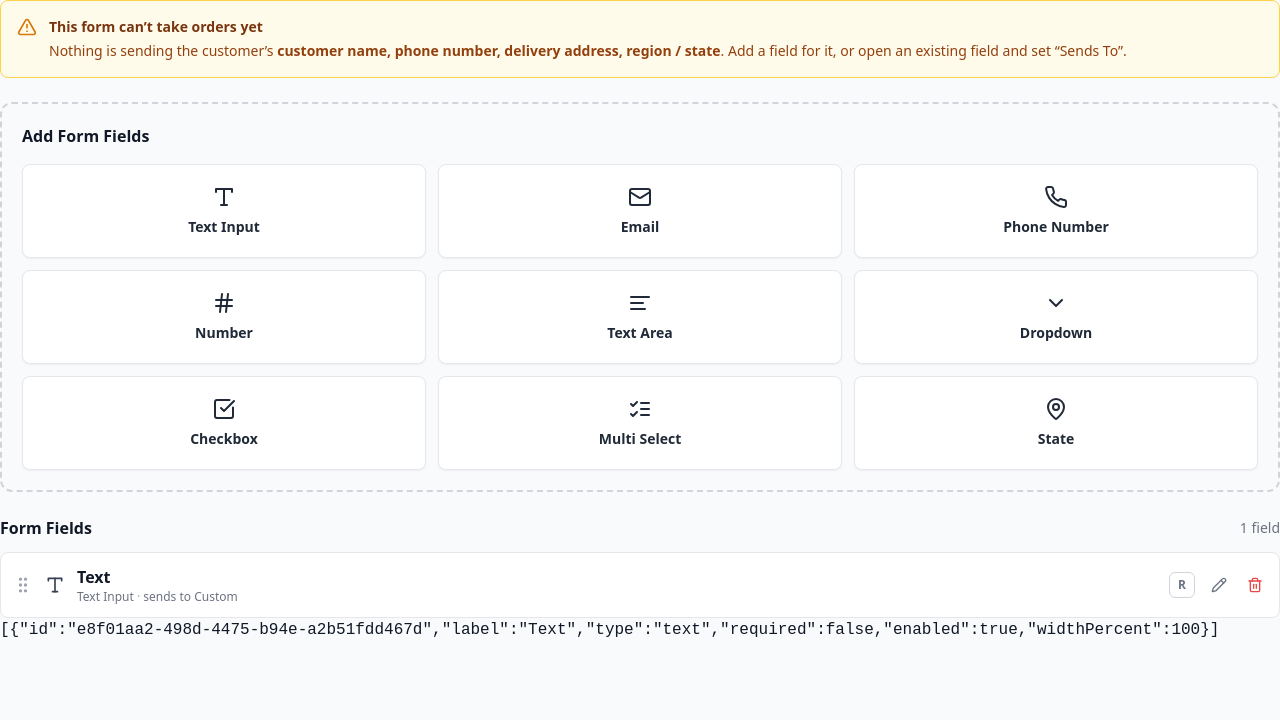
it: FieldsTab › edits a field via the modal — label and width persist
Click the button titled "Edit field" at (1219,585), box x1=1207 y1=573 x2=1231 y2=597
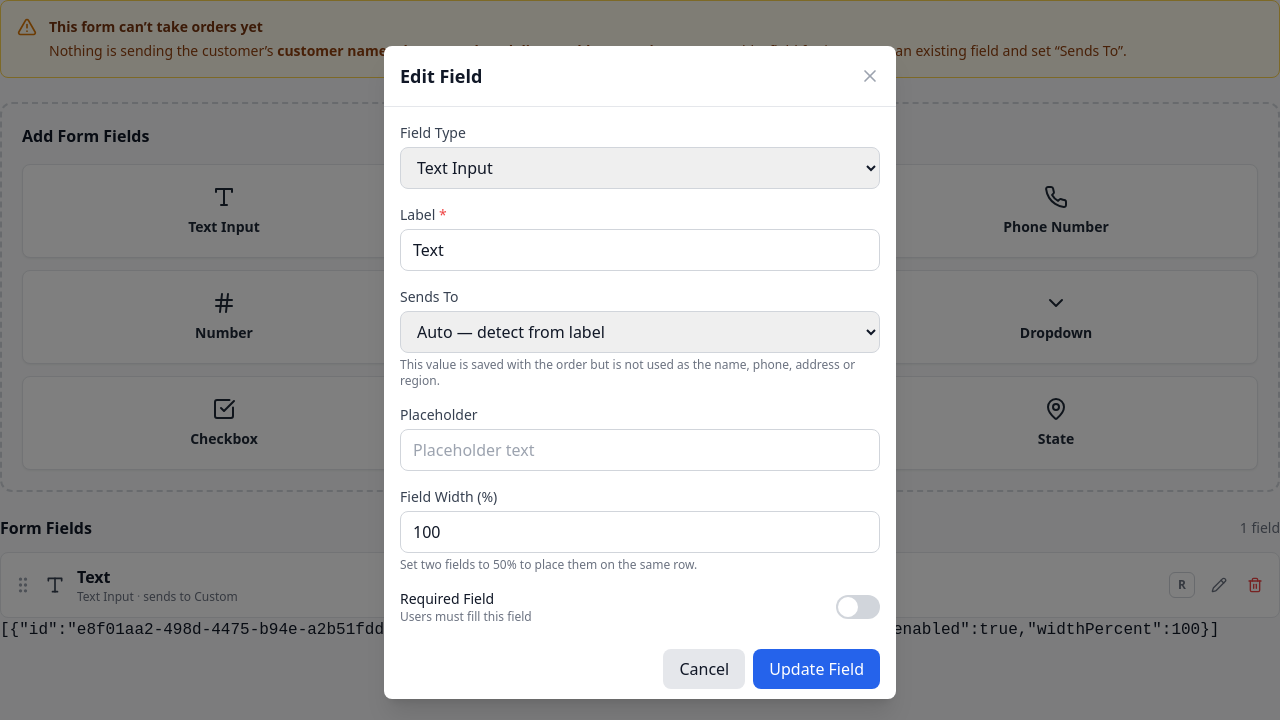
Replace the text in the field with placeholder "e.g., Full Name" with "Full Name" at (640,250), box x1=400 y1=228 x2=880 y2=270
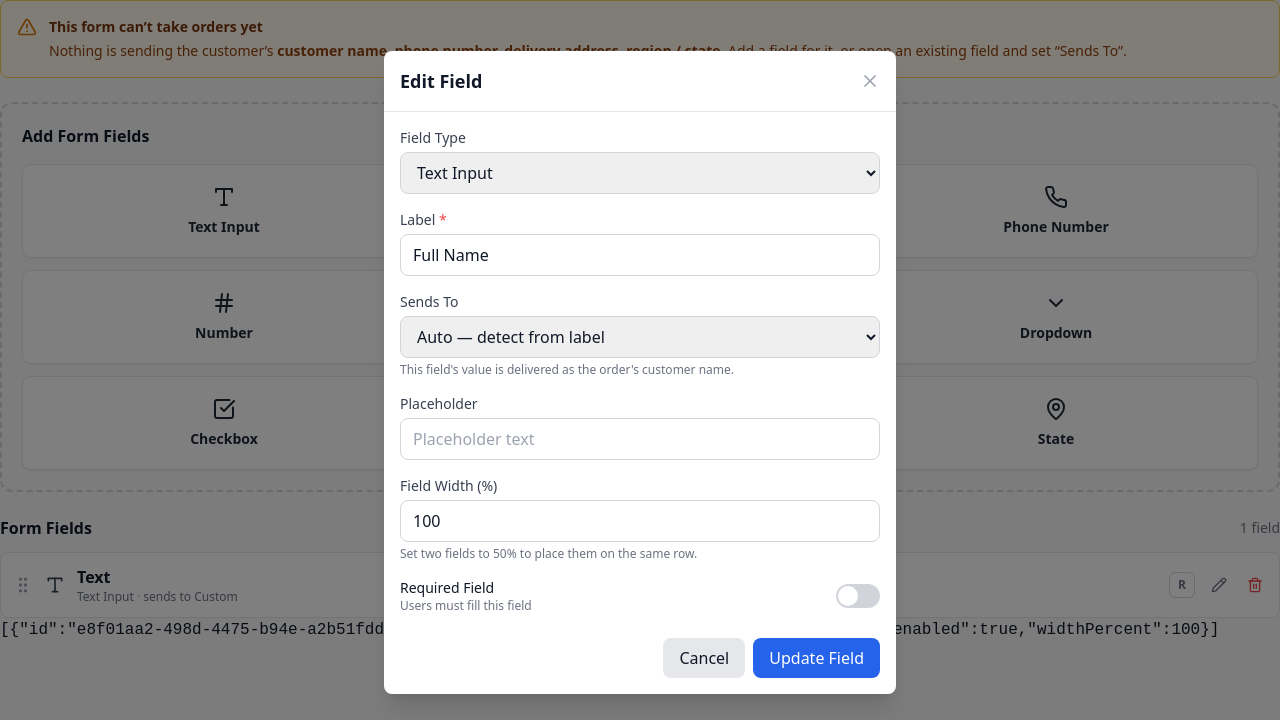
Replace the text in the number field with "50" at (640,520), box x1=400 y1=500 x2=880 y2=542
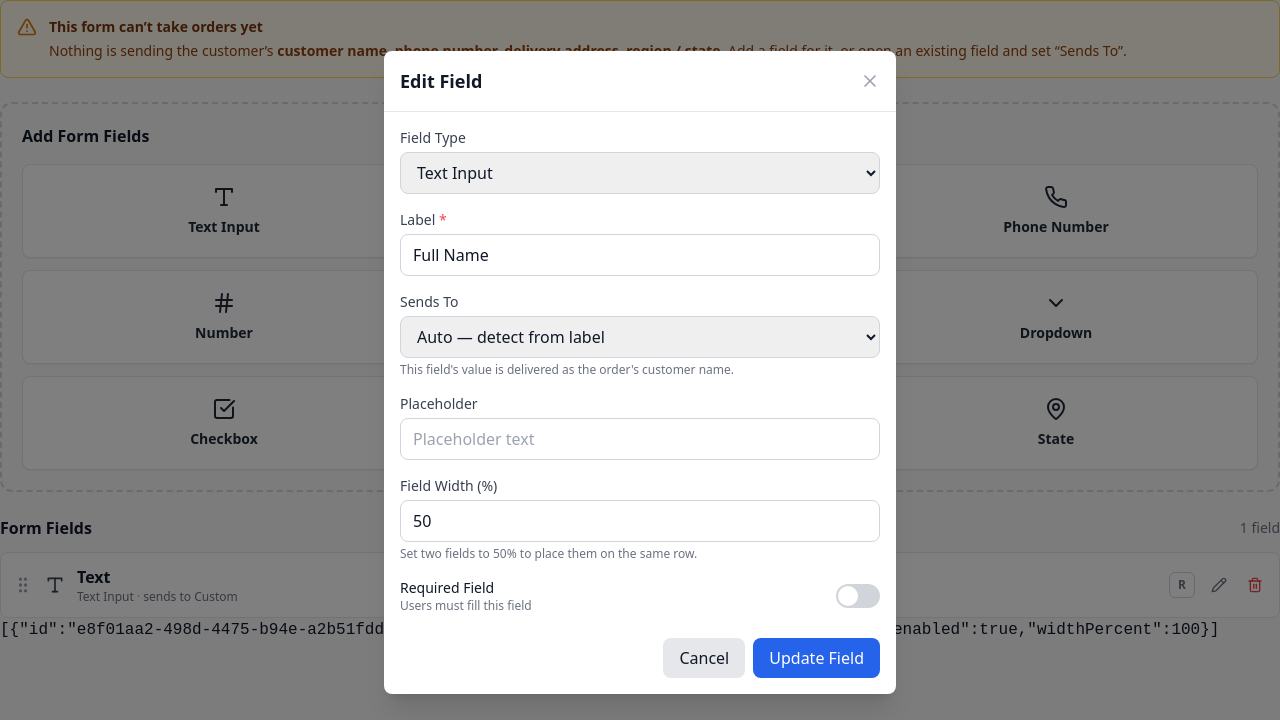
Click the button "Update Field" at (817,658), box x1=753 y1=638 x2=880 y2=678
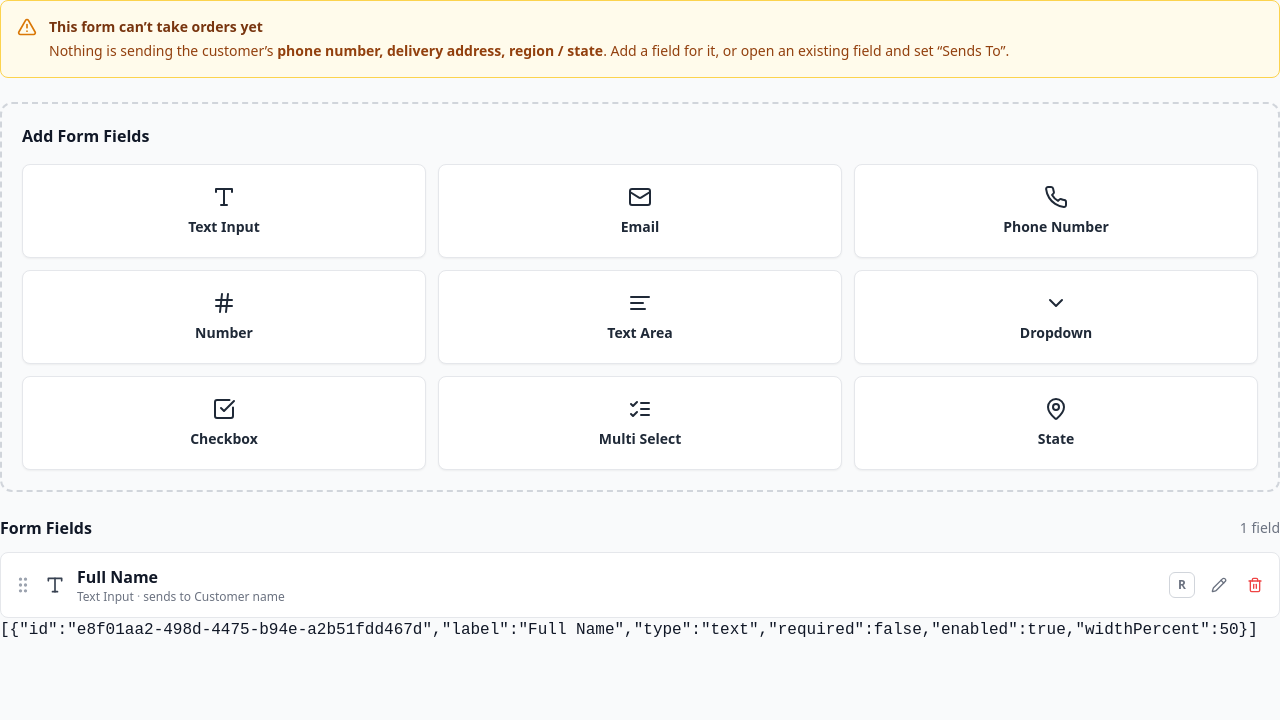
Now the text "Full Name" is shown, box x1=77 y1=566 x2=158 y2=588
